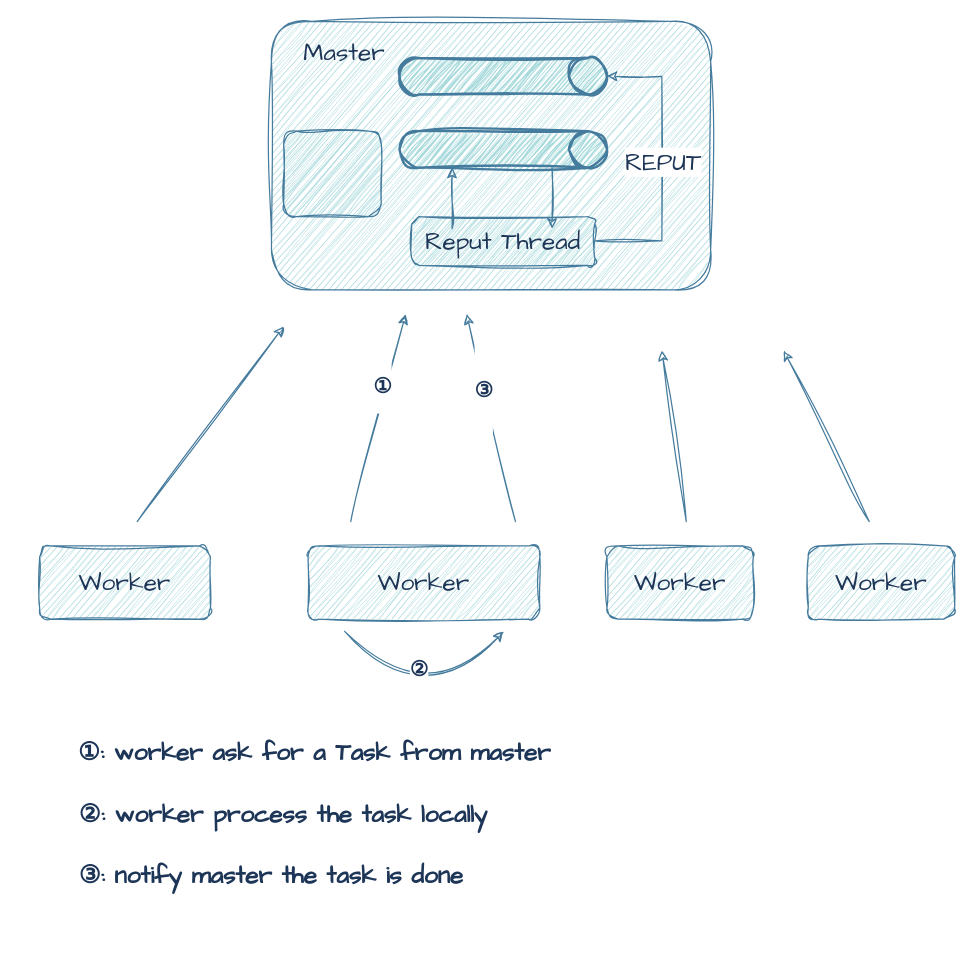
This 976x953 diagram has some shape labels left out. The shapes that lost their labels are listed below. From the top down, each one's centre as x and y in pixels, then its label:
At (x=503, y=75): "TaskChannel".
At (x=503, y=148): "TaskQueue".
At (x=331, y=173): "STATE".
